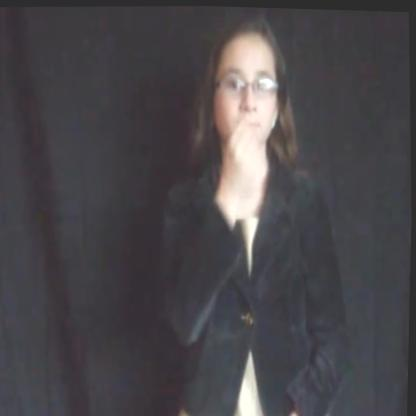Food: (179, 4, 306, 215)
